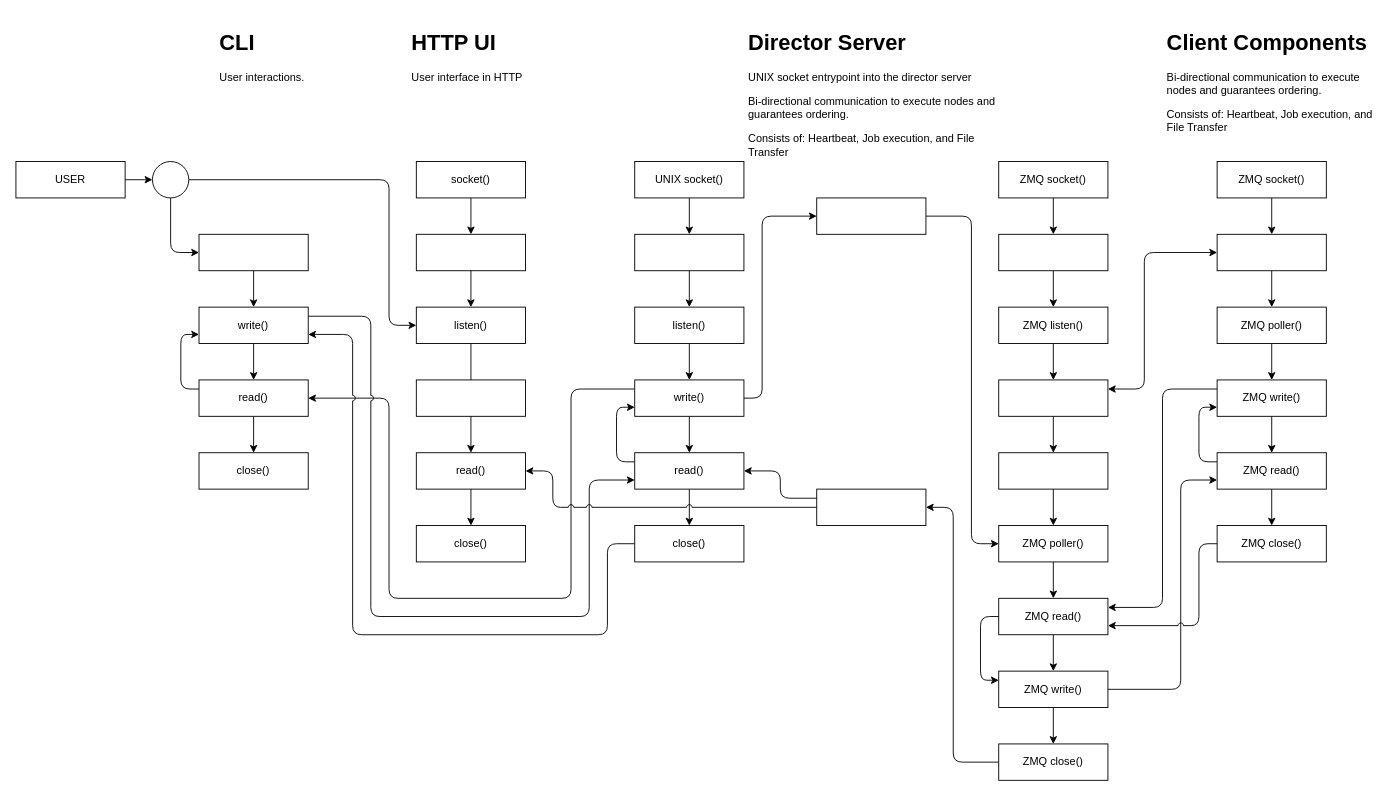
This 1397x796 diagram has some shape labels left out. Here are the shapes that lost their labels. From the top down, the centre of each, then its label:
At (x=170, y=179): "AND".
At (x=871, y=215): "Multiprocessing Queue".
At (x=253, y=252): "connect()".
At (x=470, y=252): "bind()".
At (x=689, y=252): "UNIX bind()".
At (x=1053, y=252): "ZMQ bind()".
At (x=1271, y=252): "ZMQ connect()".
At (x=470, y=397): "accept()".
At (x=1053, y=397): "ZMQ auth()".
At (x=1053, y=470): "ZMQ accept()".
At (x=871, y=507): "Manager".
